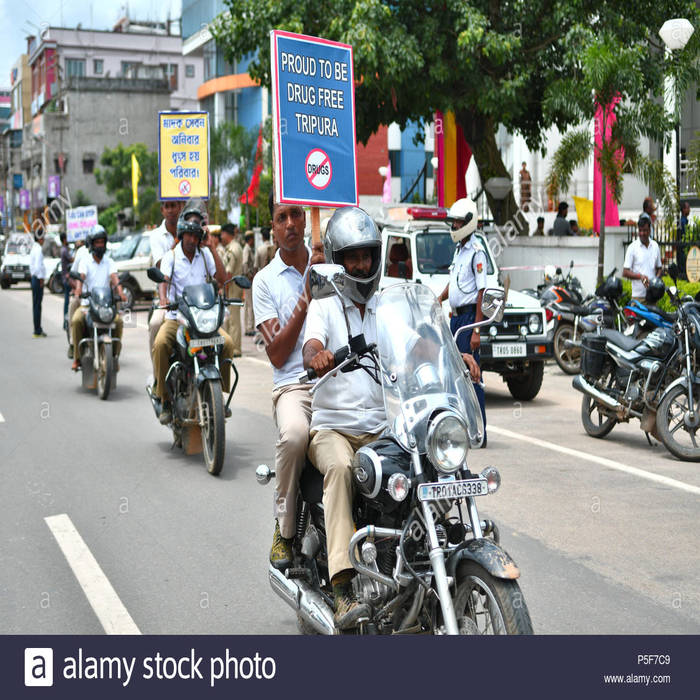h: (323, 205, 386, 306), (445, 197, 480, 245), (174, 194, 211, 239), (87, 223, 109, 258)
n: (415, 477, 490, 503), (490, 337, 530, 359), (188, 335, 227, 349)
